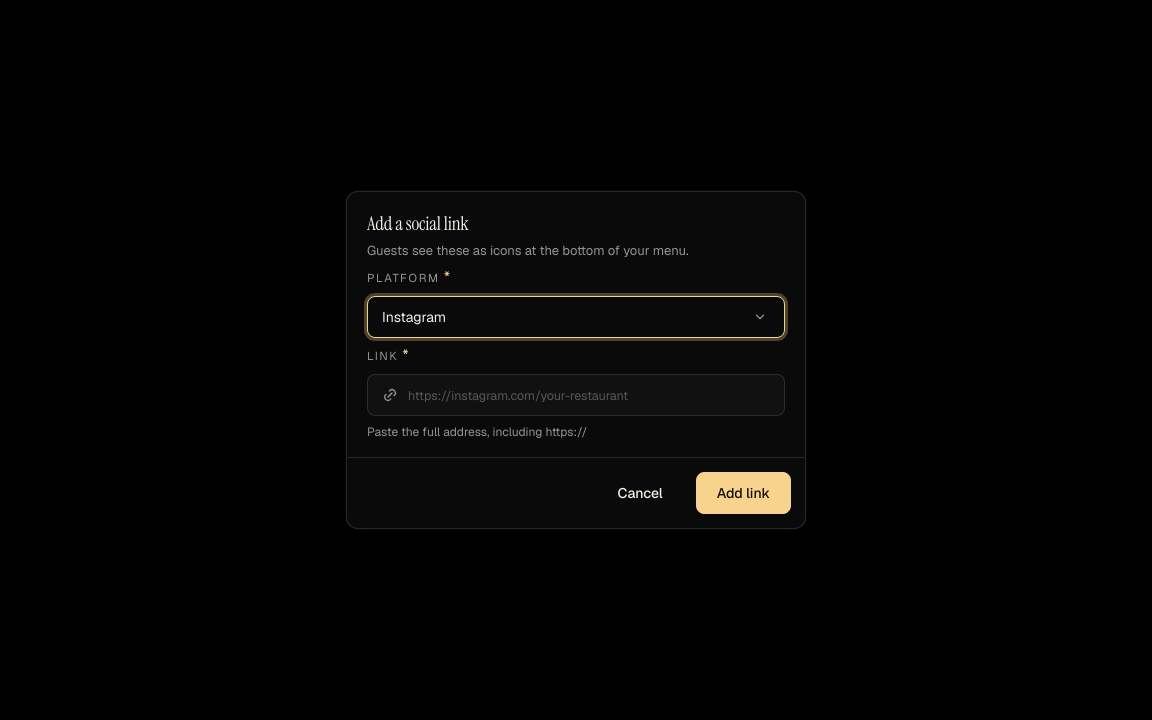
Test: SocialLinkDialog › shows any other failure above the form
Type "https://instagram.com/beit" into the field labelled "Link*" at (594, 395), box [404,375,784,415]
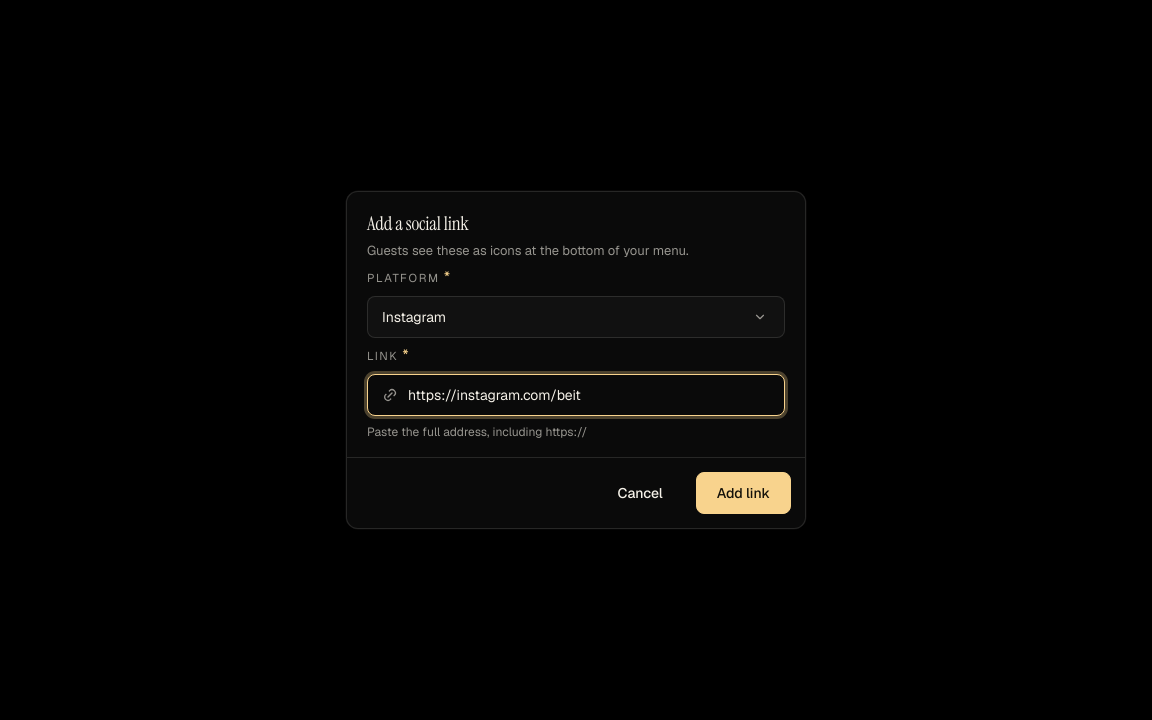
Click the button "Add link" at (743, 493), box [696,472,791,514]
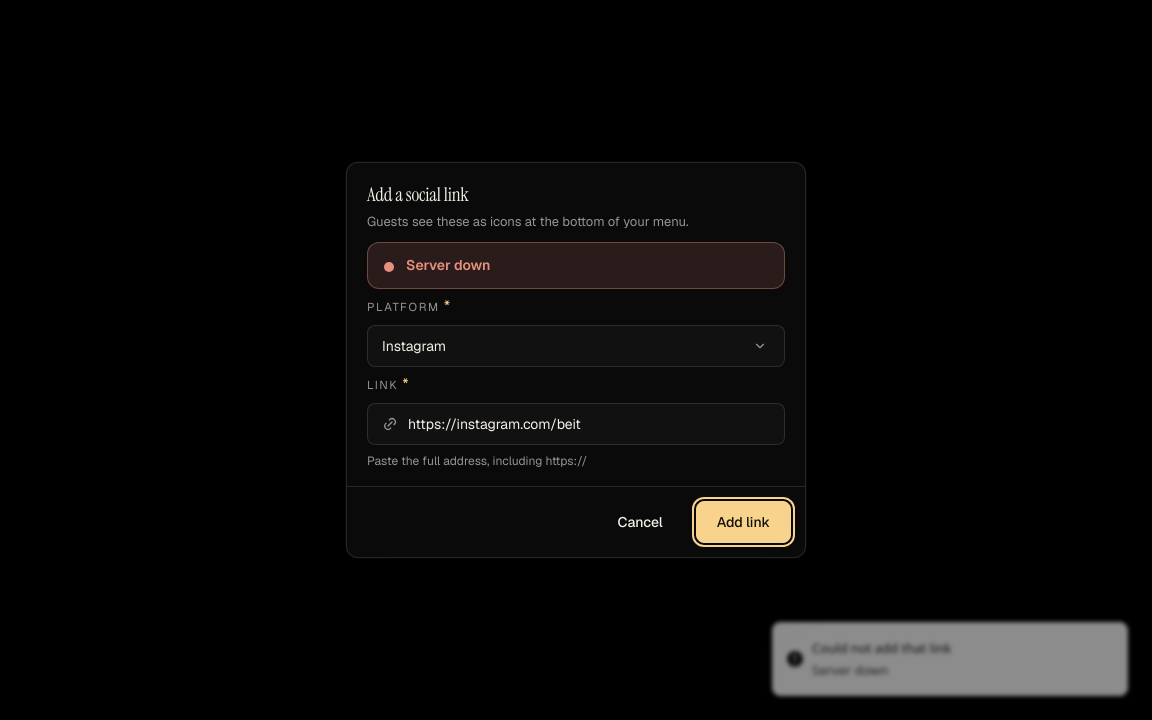
expect the message reads "Server down": met, box [406,256,490,274]
expect the text "Could not add that link" is shown: met, box [812,639,951,659]
